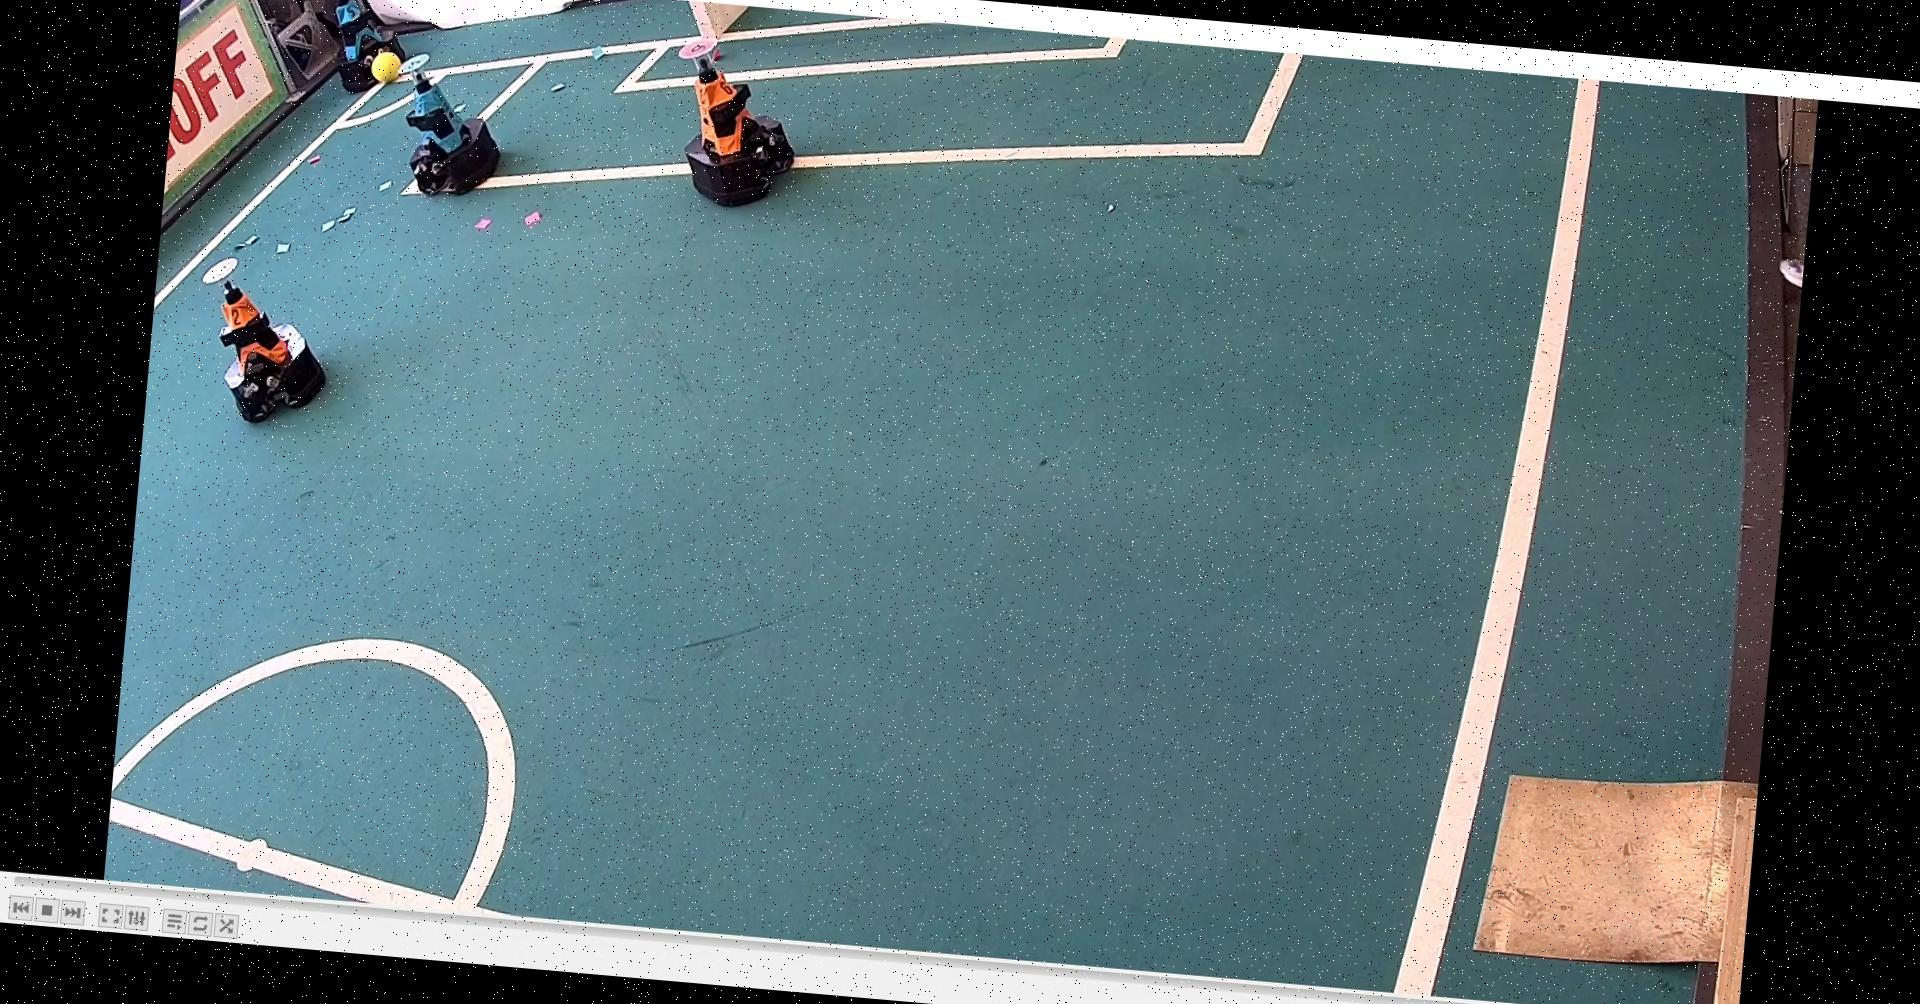Ball: (368, 47, 405, 88)
Team_Blue: (378, 39, 512, 208), (309, 0, 413, 96)
Team_Red: (185, 249, 345, 440), (664, 27, 810, 222)
